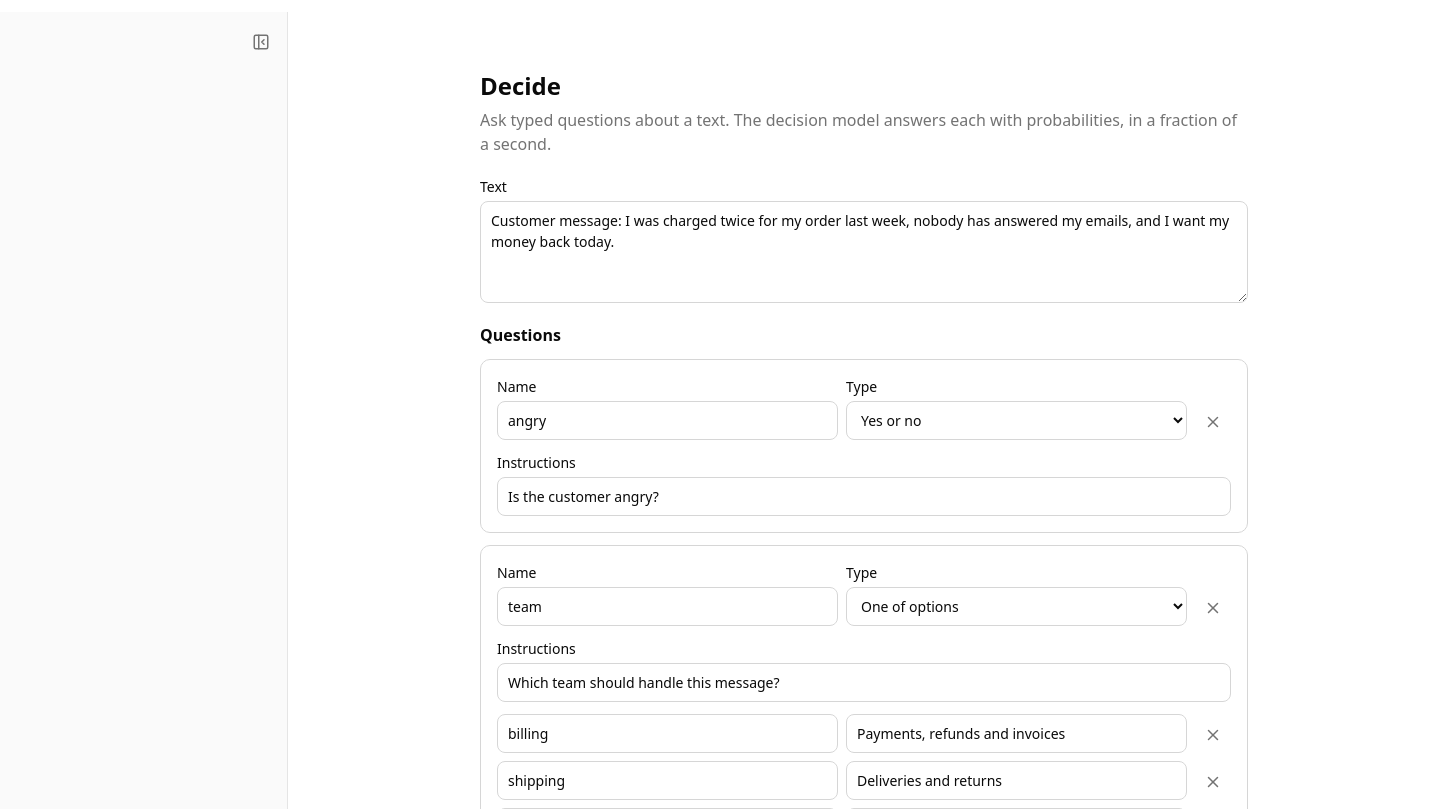
what the backend would refuse is said, and nothing is sent
The width and height of the screenshot is (1440, 809).
expect the heading "Decide" is shown: met, box [480,69,561,102]
Step 1. Clear the 1st field labelled "Name" → (668, 420), box [497,401,838,440]
(page scrolled)
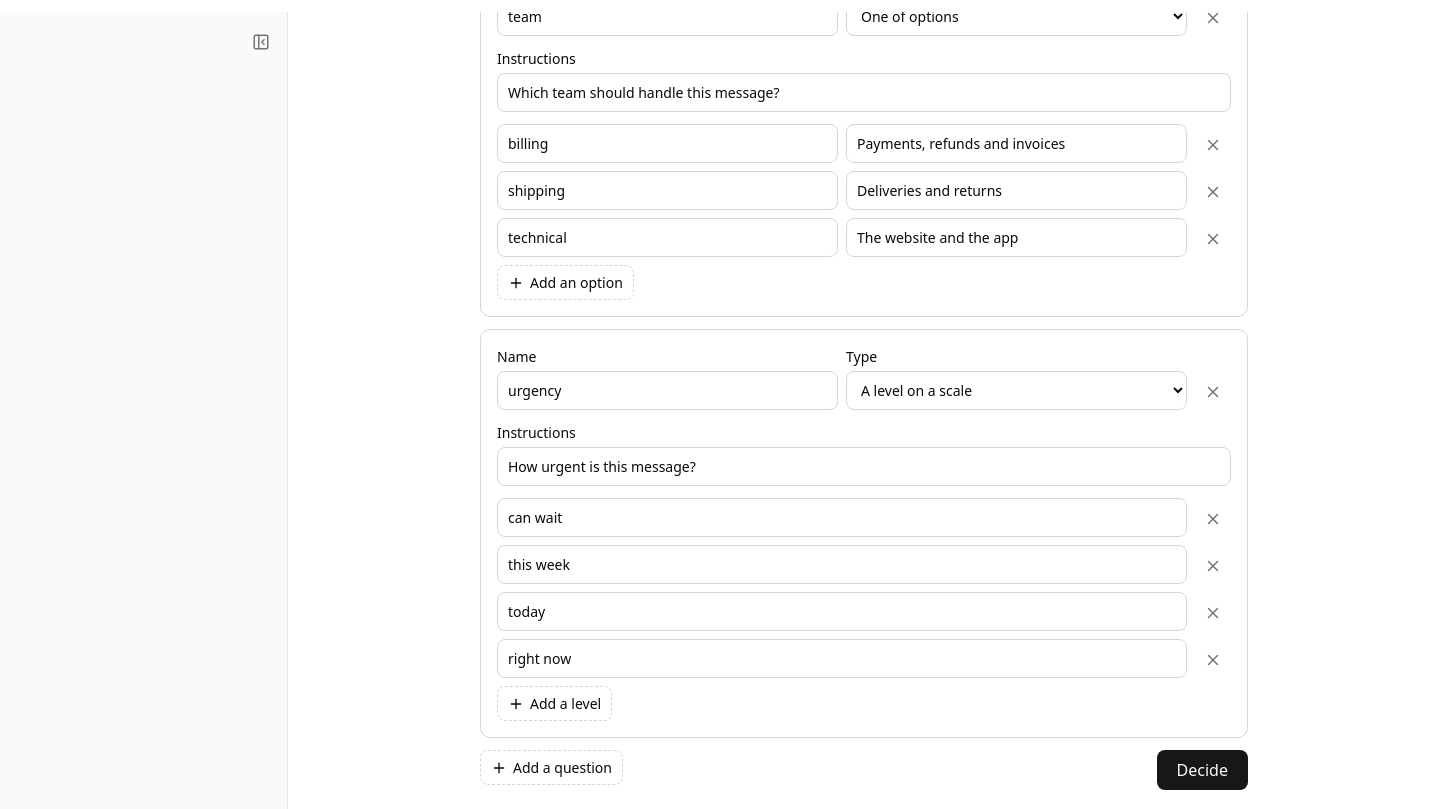
Step 2. Click the button "Decide" → (1202, 770), box [1157,750,1248,790]
(page scrolled)
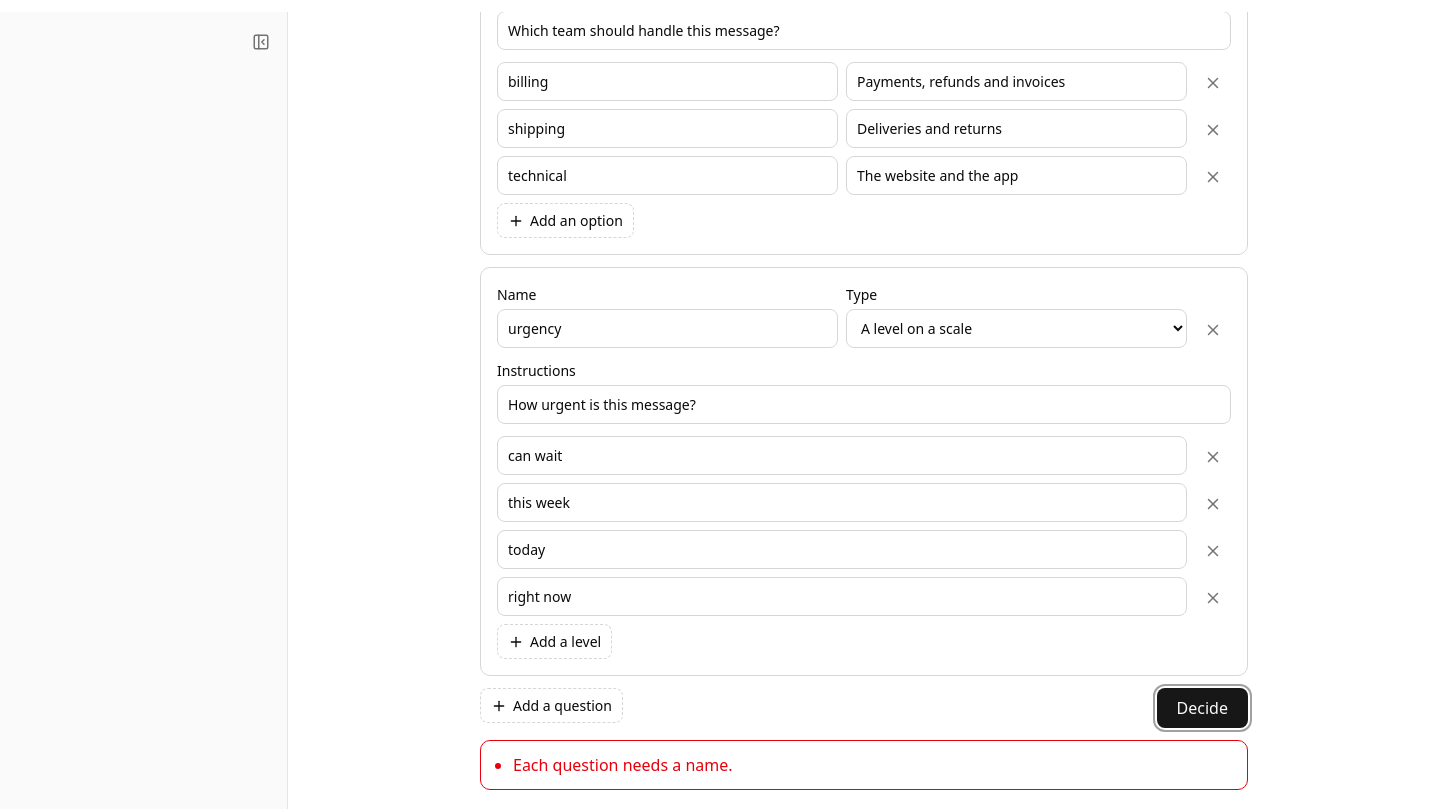
expect the message reads "Each question needs a name.": met, box [513,754,732,776]
